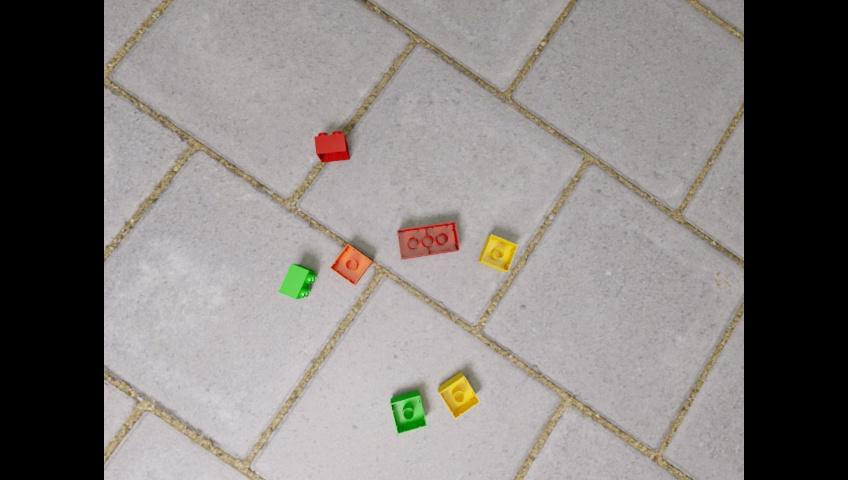2x2_green: (390, 389, 426, 434), (278, 263, 316, 299)
2x2_orange: (330, 244, 372, 286)
2x2_red: (314, 130, 348, 162)
2x2_yellow: (438, 372, 479, 419), (478, 235, 518, 272)
4x2_red: (398, 222, 459, 259)
